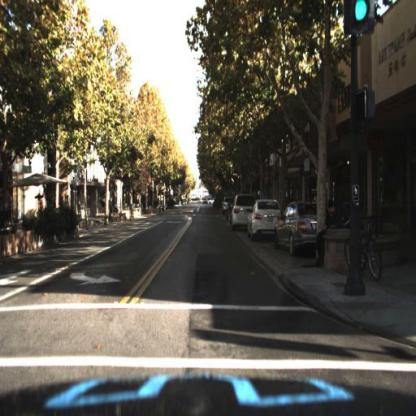car: (273, 201, 320, 254), (248, 201, 284, 241), (231, 194, 259, 227)
pedestrian: (316, 198, 345, 267), (61, 195, 68, 218), (41, 194, 47, 220)
